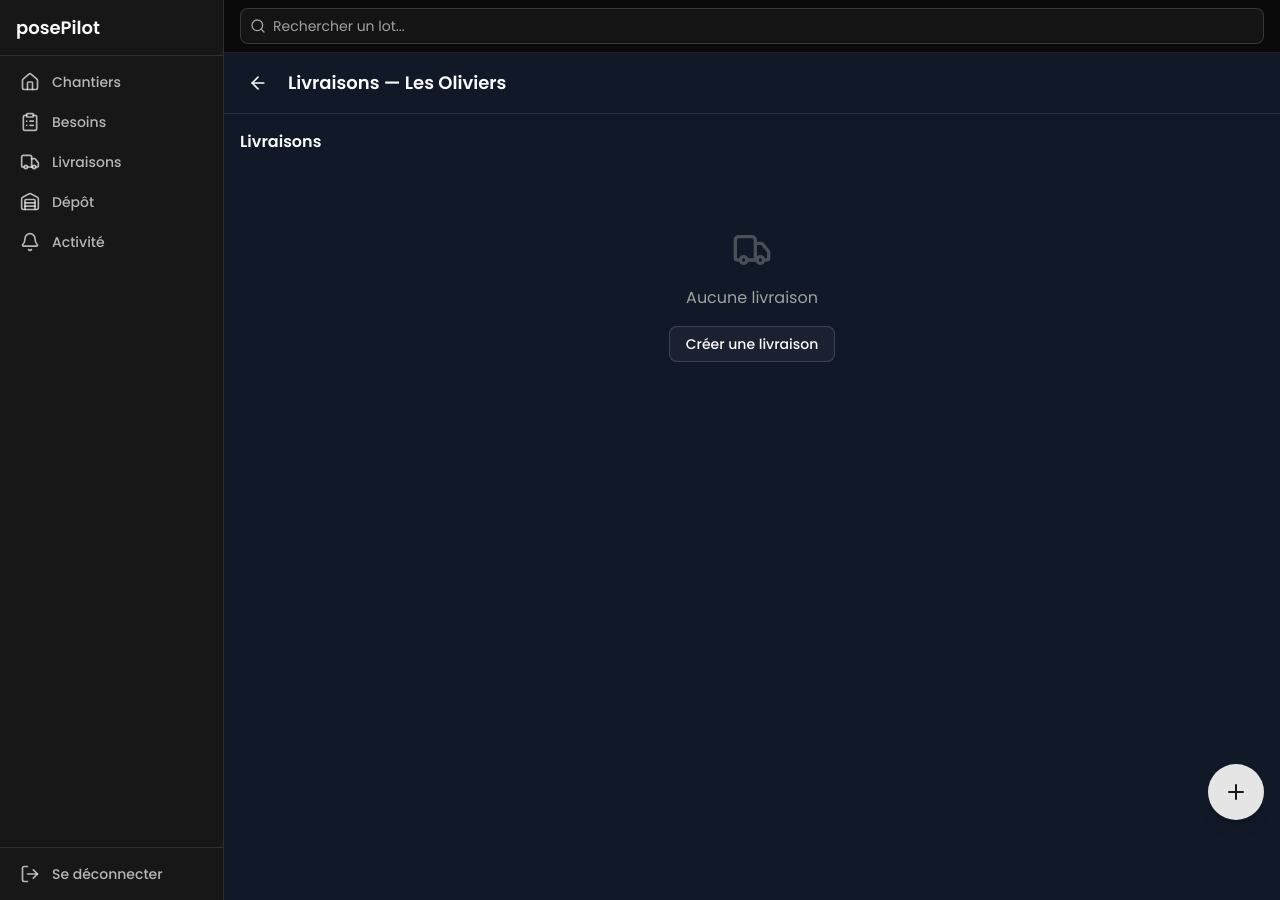
Test: LivraisonsPage — sheet interactions › opens creation sheet when FAB is clicked
expect the text "Aucune livraison" is shown: met, box [686,286,818,310]
Click the button named "Ajouter" at coordinates (1236, 792), box [1208,764,1264,820]
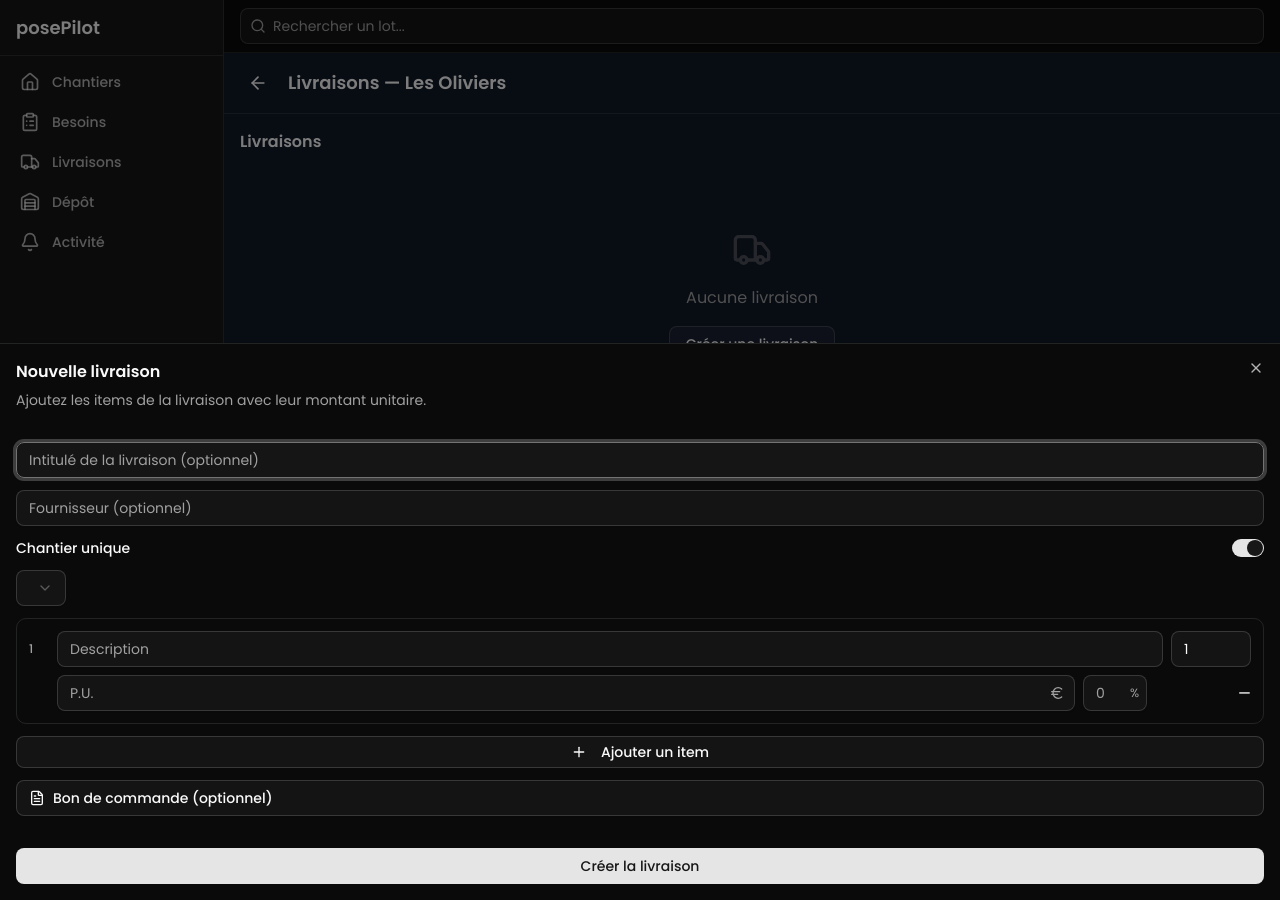
expect the heading "Nouvelle livraison" is shown: met, box [16,360,160,383]
expect the field named "Description de la livraison" is shown: met, box [16,442,1264,478]
expect the button "Créer la livraison" is shown: met, box [16,848,1264,884]
